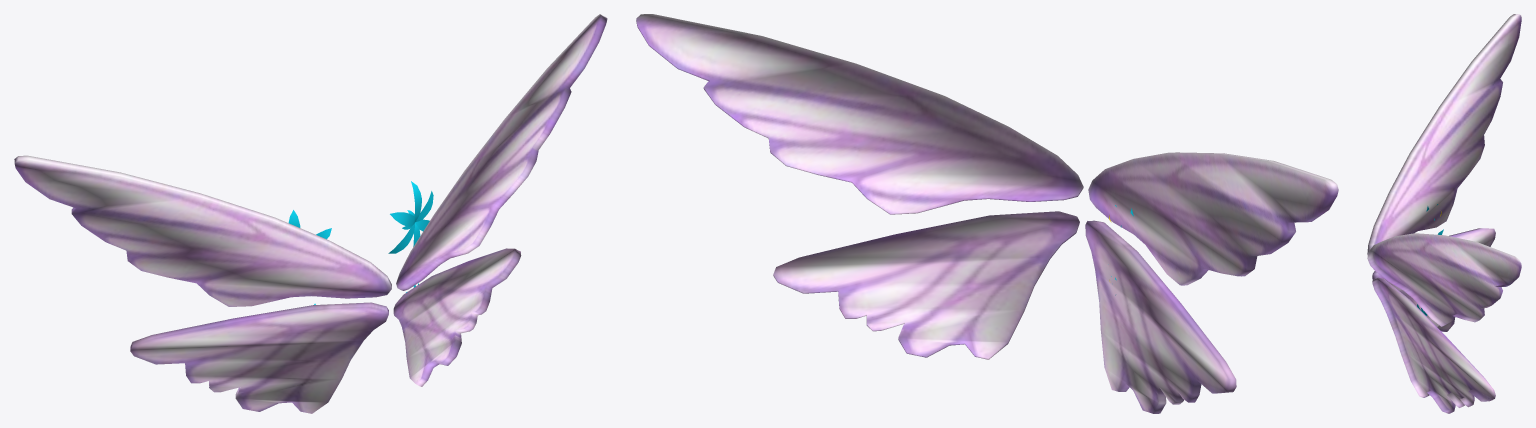
File: outfit_fairy_wings.glb
The picture shows the model from 3 angles, left to right: view 1: azimuth 30°, elevation 25°; view 2: azimuth 150°, elevation 25°; view 3: azimuth 270°, elevation 25°; orthographic projection. The views are drawn at different scales.
Parts seen in each view (by area): view 1: outfit_fairy_wings; view 2: outfit_fairy_wings; view 3: outfit_fairy_wings.
Boxes of the visible parts, x1,y1,x2,y2 form: outfit_fairy_wings: [14, 14, 607, 413]; outfit_fairy_wings: [636, 14, 1338, 413]; outfit_fairy_wings: [1367, 14, 1521, 413].
Bounding box in the file's own units: 0.6807 × 0.3 × 0.1773.
1 material, 1 textured.
